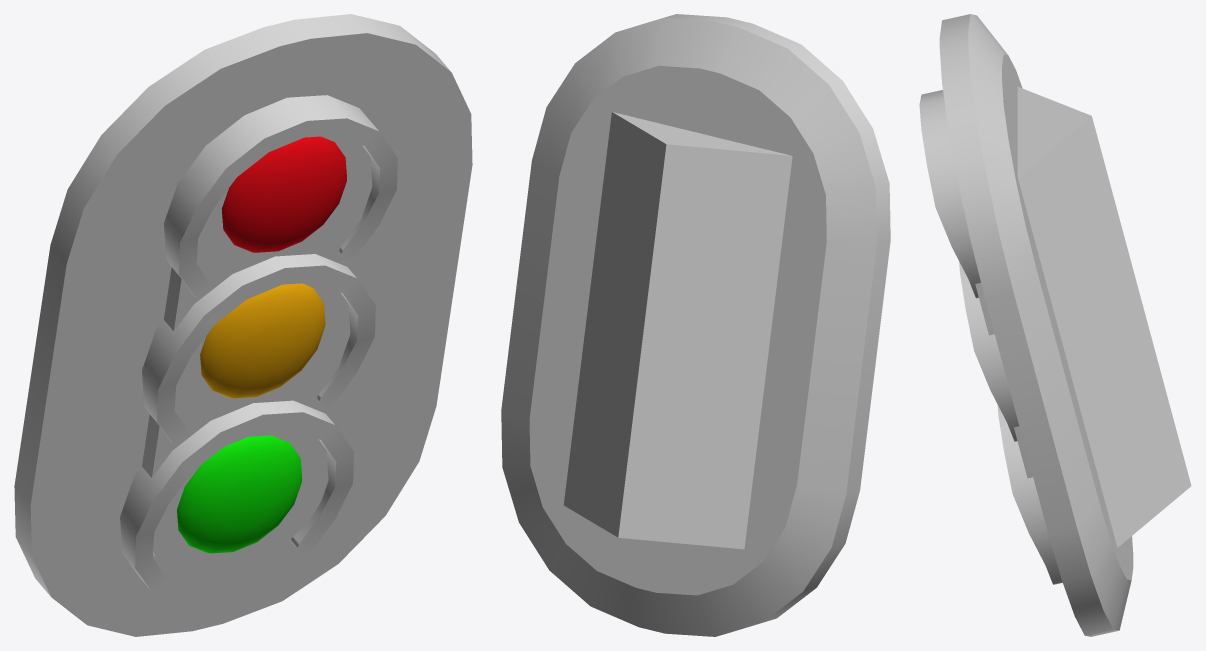
The model's file is losse verkeerslicht.fbx.
The picture shows the model from 3 angles, left to right: view 1: azimuth 30°, elevation 25°; view 2: azimuth 150°, elevation 25°; view 3: azimuth 270°, elevation 25°; orthographic projection. The views are drawn at different scales.
Visible parts, largest first — view 1: verkeersligt; view 2: verkeersligt; view 3: verkeersligt.
Boxes of the visible parts, <box> form: verkeersligt: <box>14,14,472,636</box>; verkeersligt: <box>501,14,890,636</box>; verkeersligt: <box>919,14,1191,636</box>.
Size of the model in its own units: 0.5653 by 0.8733 by 0.3736.
